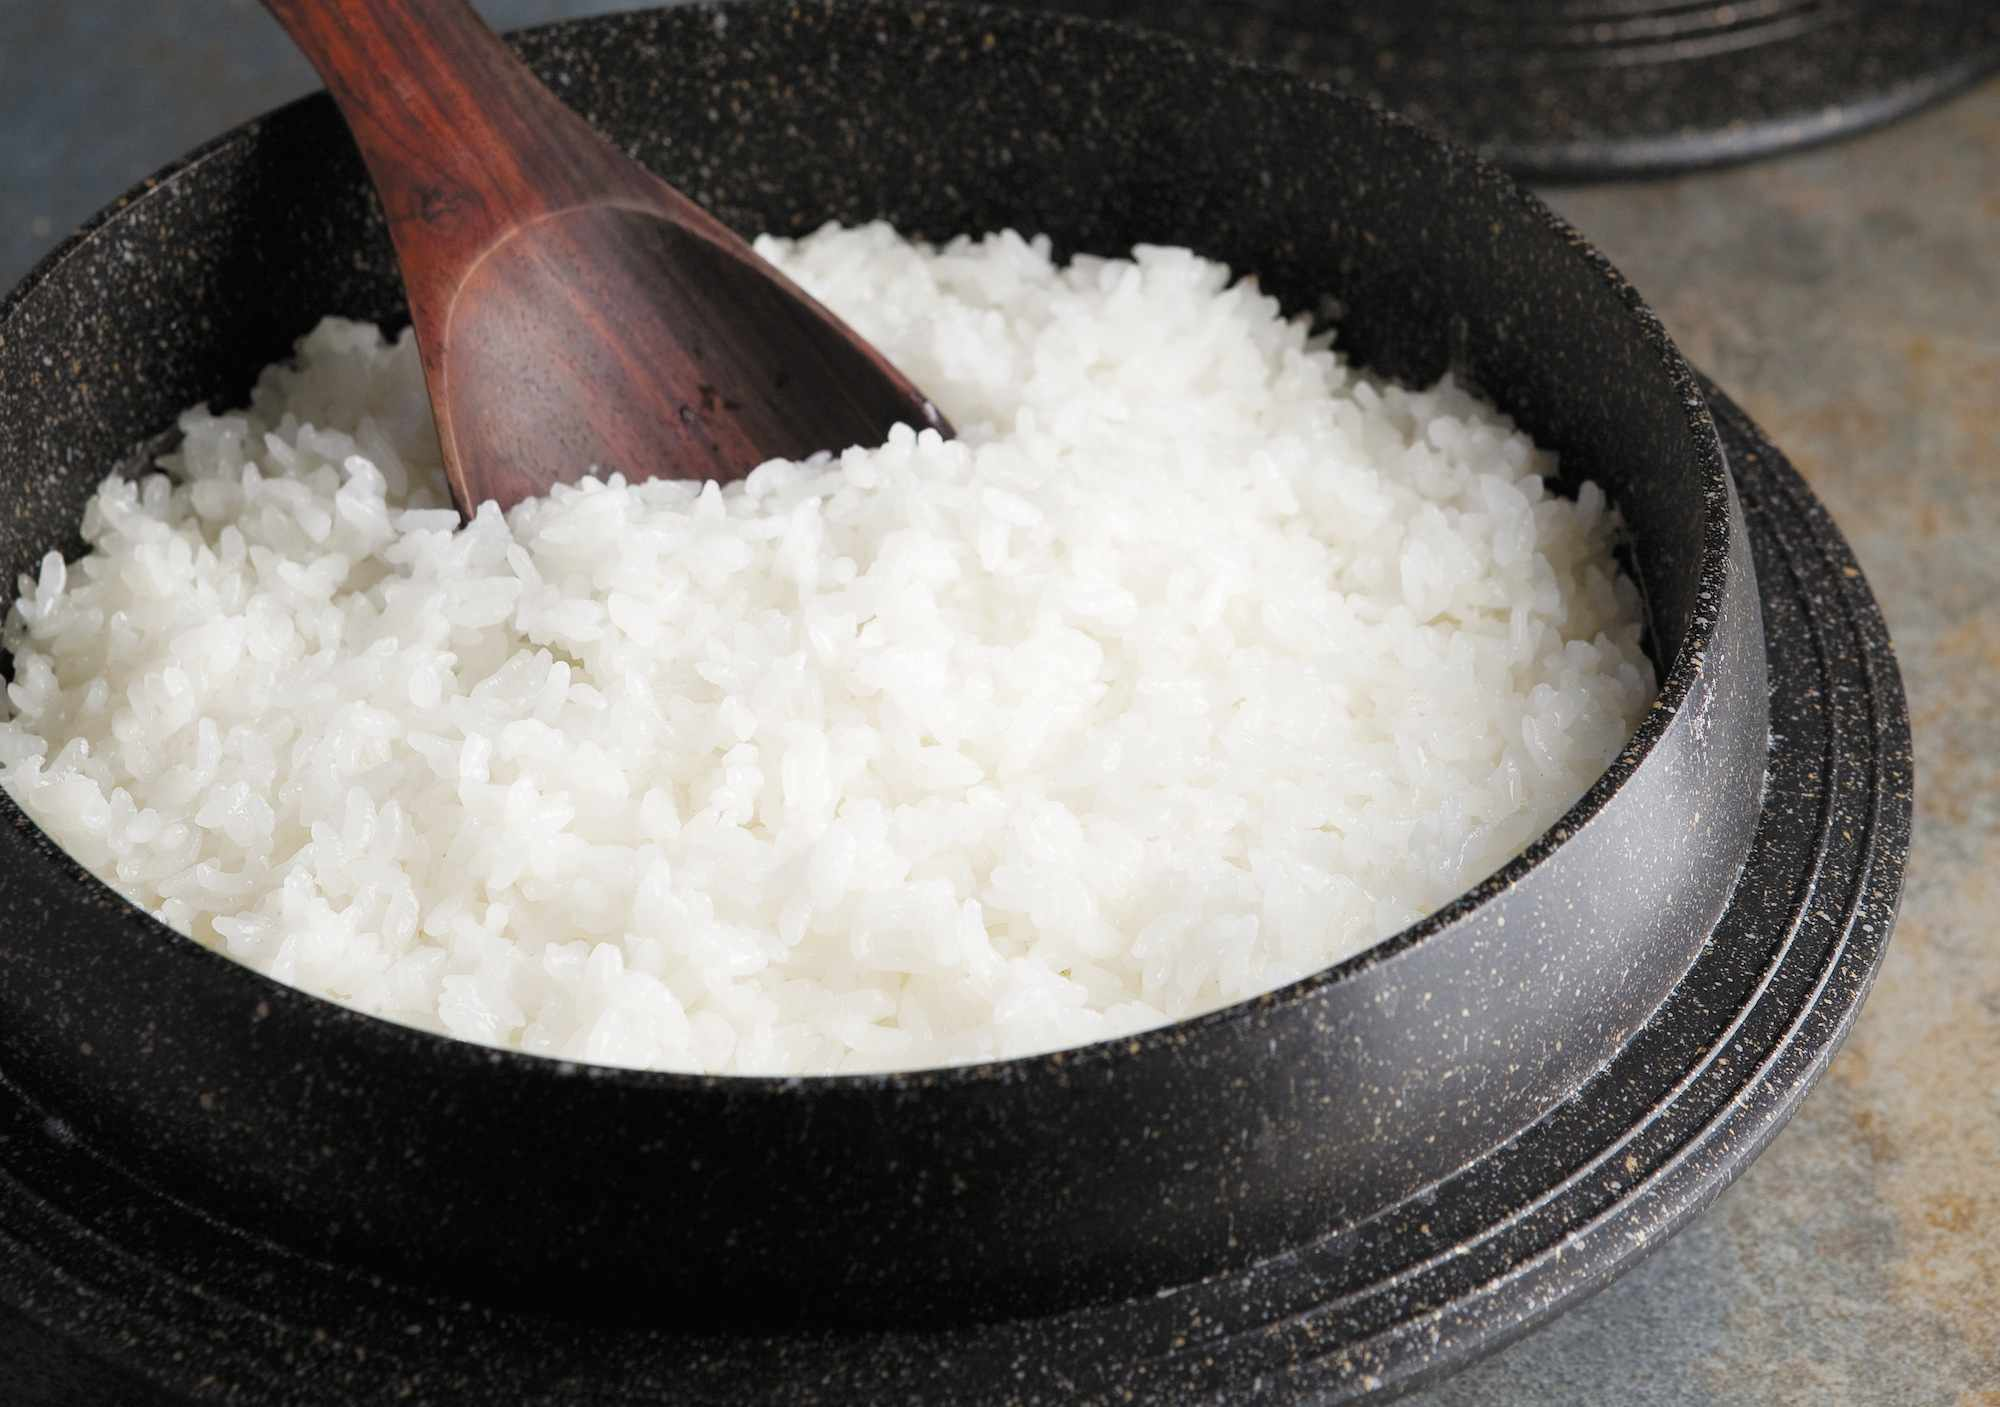rice: (33, 177, 1656, 1010)
